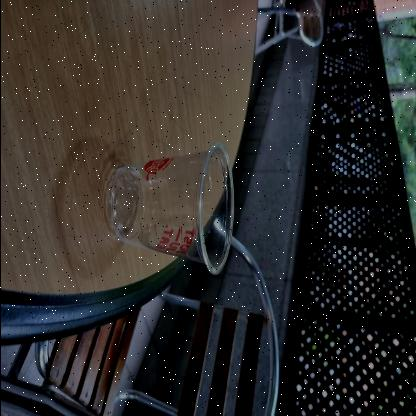Others: (100, 138, 240, 278)
